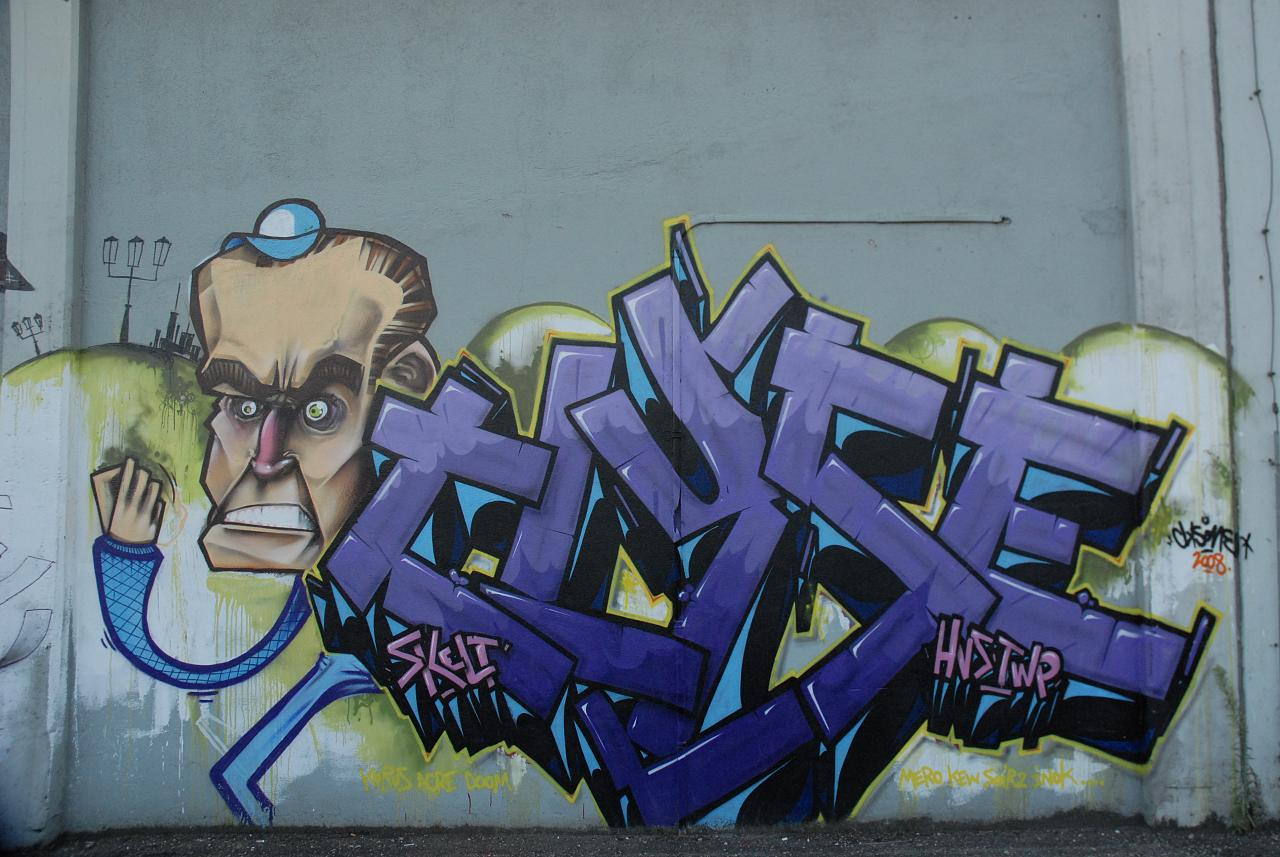graphite: (92, 189, 1274, 849)
